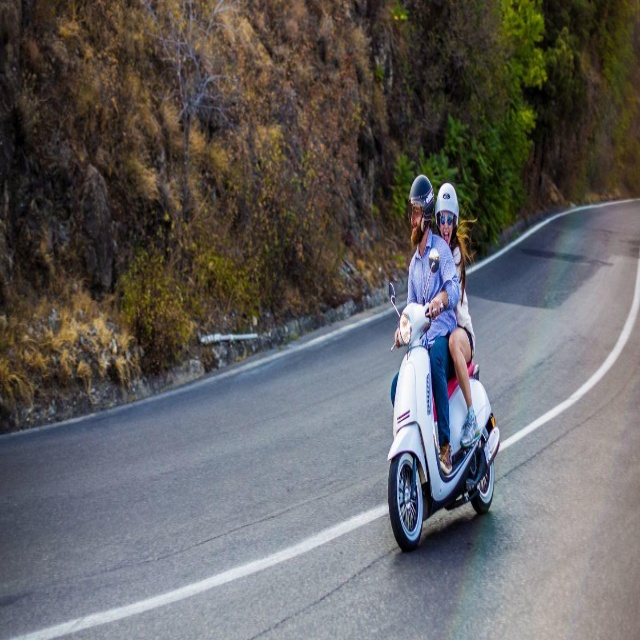Motorcycle: (387, 249, 501, 554)
